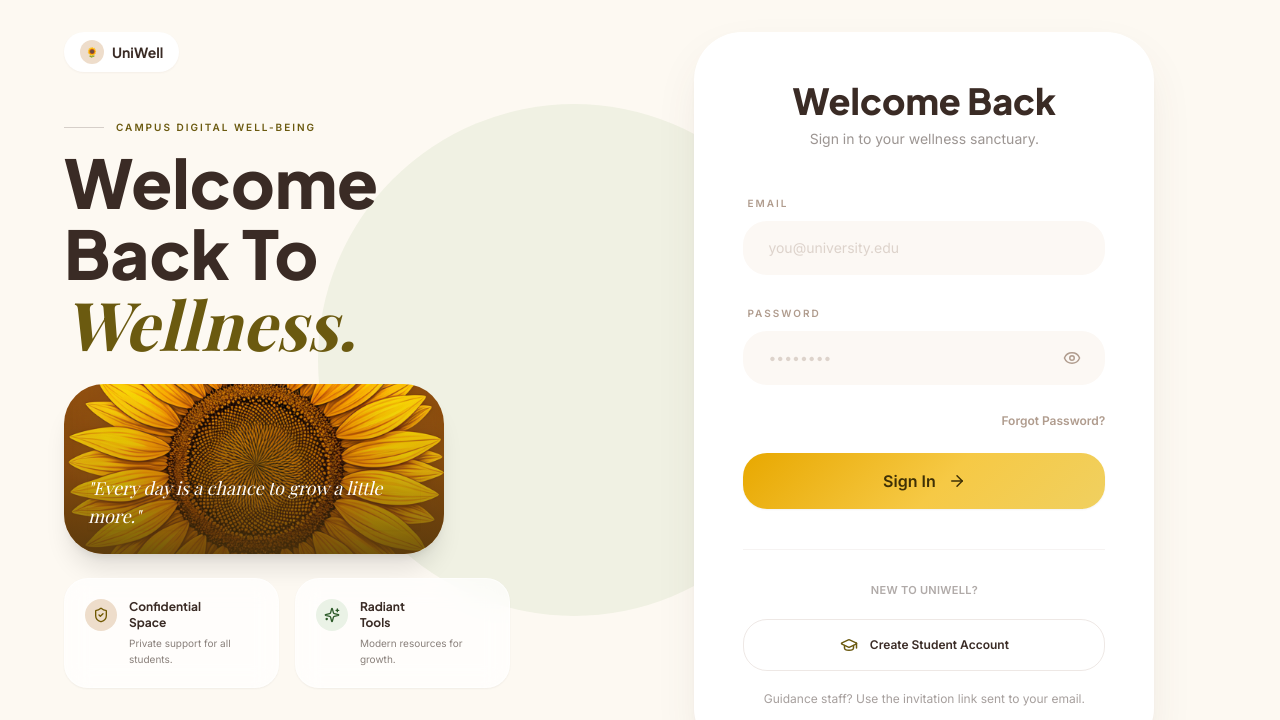
Test: unified login › shows a setup error when the profile schema is missing required columns
Type "member@example.edu" into the field labelled "Email" at (924, 248), box [743, 221, 1105, 275]
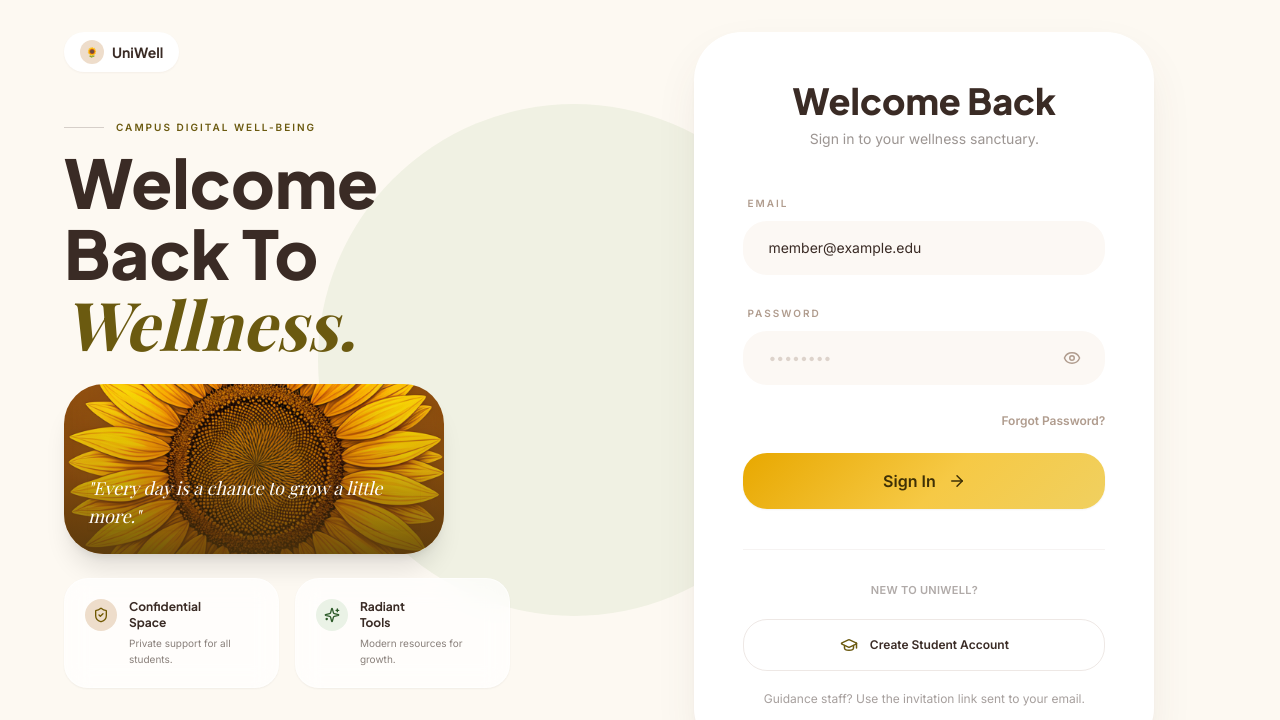
Type "StrongPassword123!" into the password field labelled "Password" at (924, 358), box [743, 331, 1105, 385]
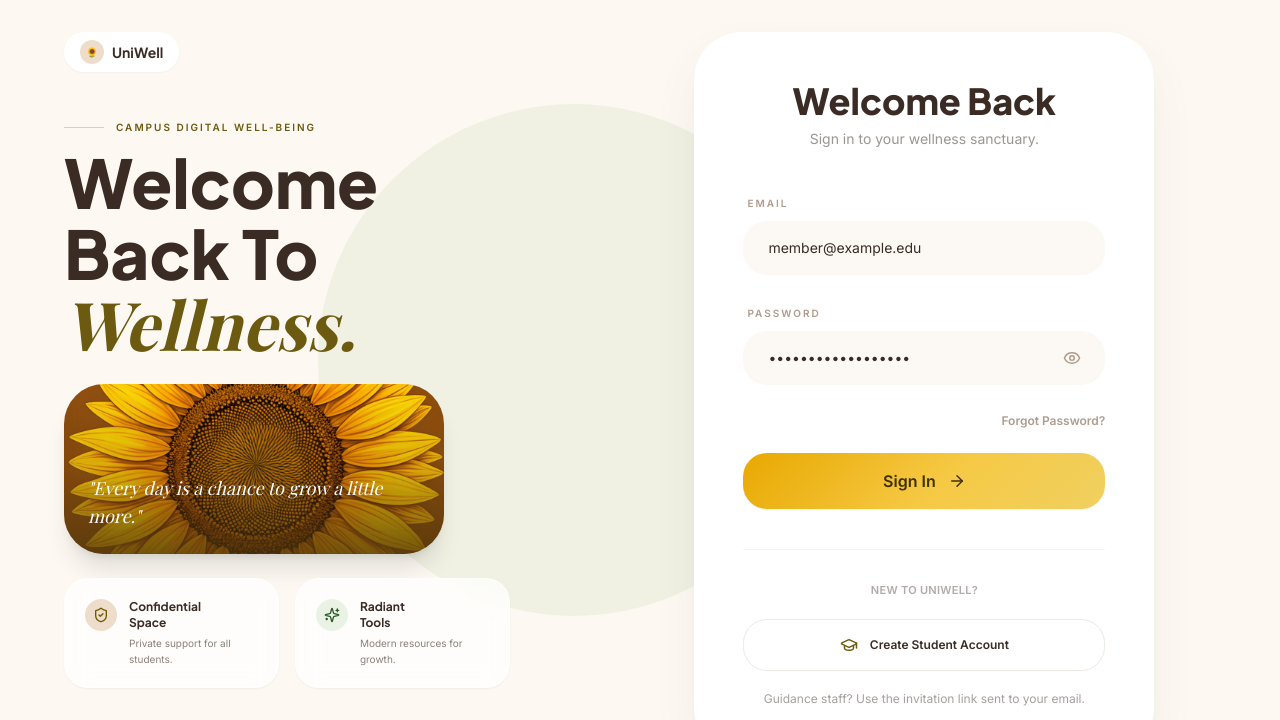
Click the button "Sign In" at (924, 481), box [743, 453, 1105, 509]
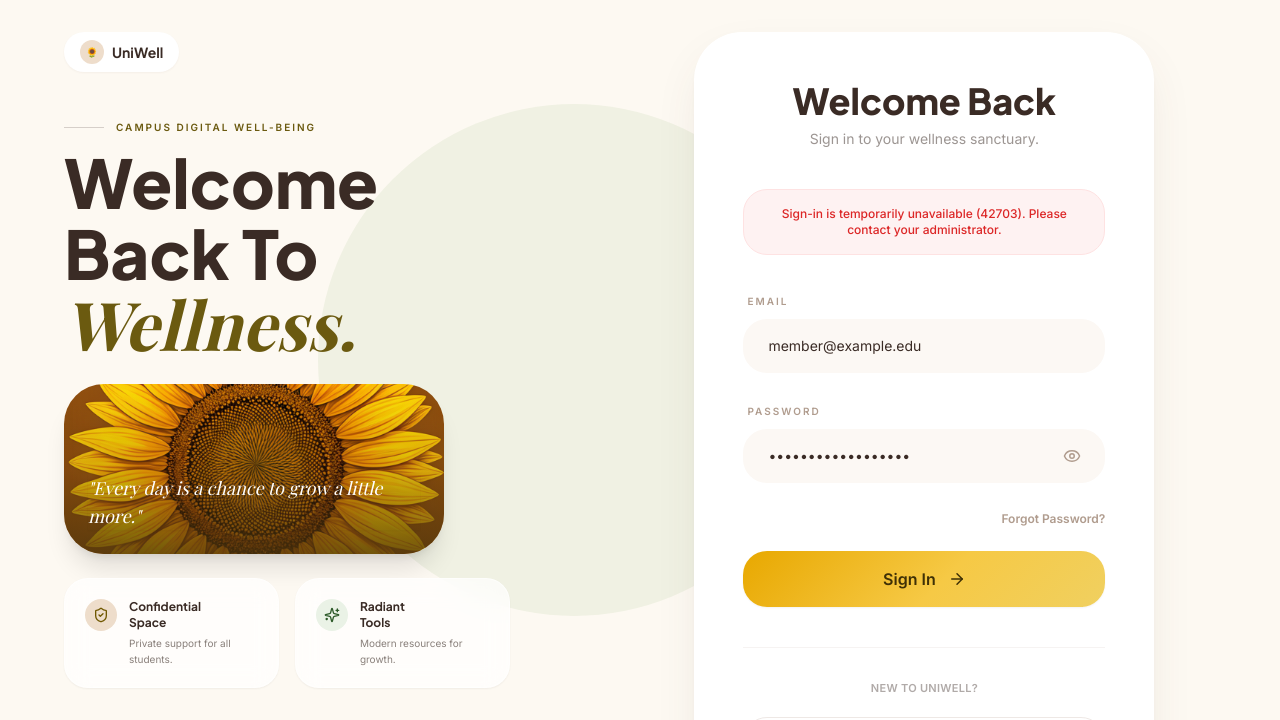
Expected: the message reads "Sign-in is temporarily unavailable (42703). Please contact your administrator.", [782, 206, 1067, 237]
